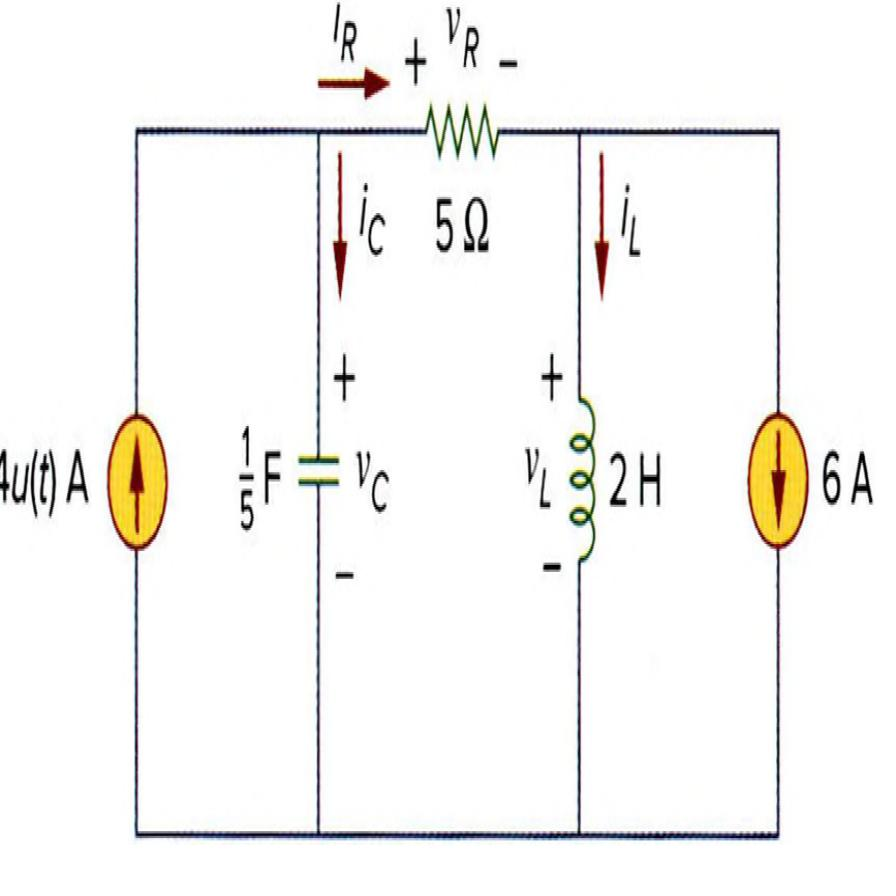C2: (283, 414, 345, 522)
I1: (105, 394, 172, 562)
I3: (738, 379, 816, 572)
L2: (562, 393, 601, 586)
R1: (416, 85, 509, 174)
